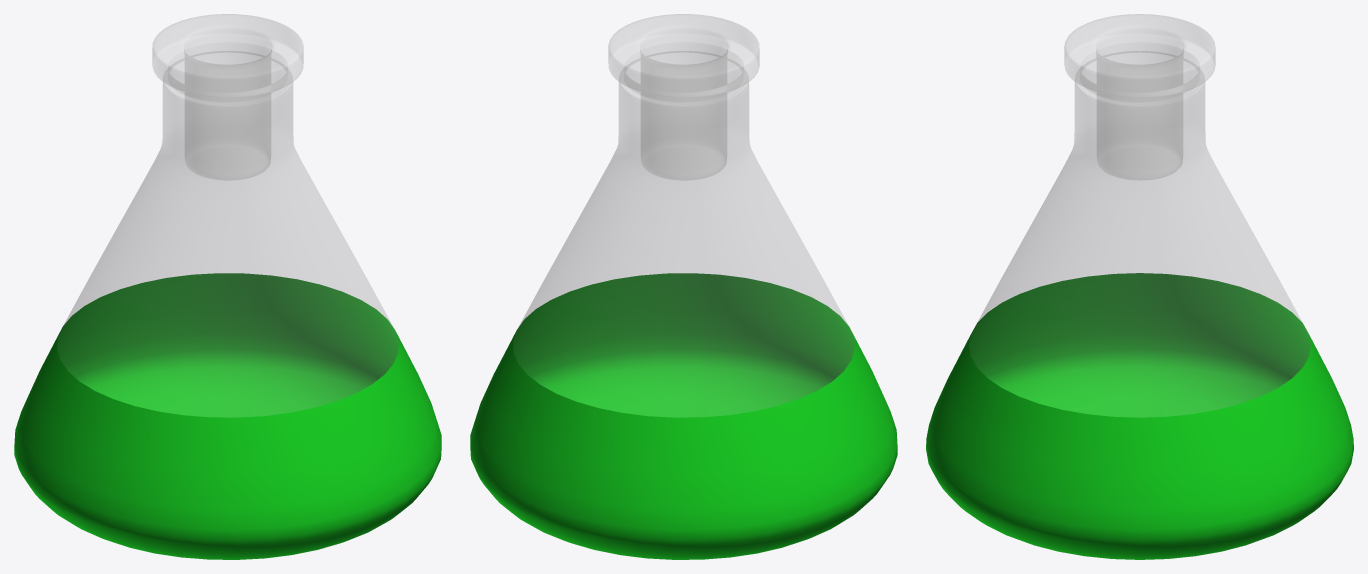
File: fernbach_flask_green.fbx
3 views of the same model, side by side, from view 1: azimuth 30°, elevation 25°; view 2: azimuth 150°, elevation 25°; view 3: azimuth 270°, elevation 25° (orthographic).
Parts seen in each view (by area): view 1: 17198_Fernbach_flask_v1; view 2: 17198_Fernbach_flask_v1; view 3: 17198_Fernbach_flask_v1.
Boxes of the visible parts, x1,y1,x2,y2 form: 17198_Fernbach_flask_v1: [14, 14, 441, 559]; 17198_Fernbach_flask_v1: [470, 14, 897, 559]; 17198_Fernbach_flask_v1: [926, 14, 1353, 559].
Size of the model in its own units: 916 by 1079 by 916.
